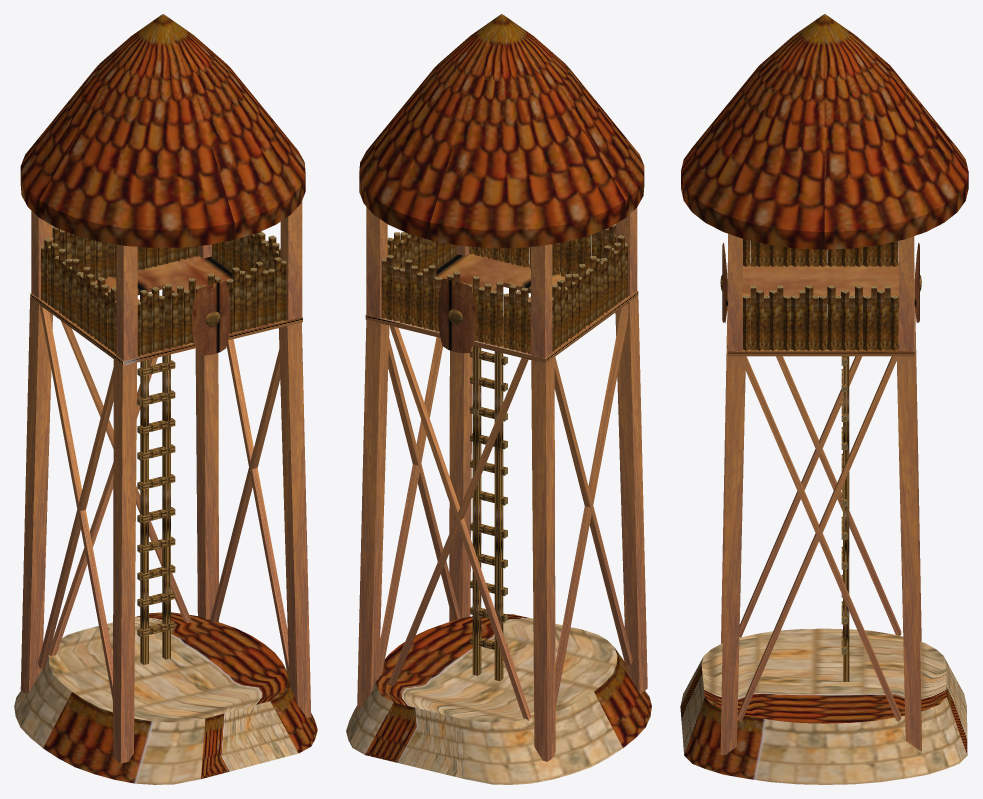
File: defense_tower.dae
3 views of the same model, side by side, from view 1: azimuth 30°, elevation 25°; view 2: azimuth 150°, elevation 25°; view 3: azimuth 270°, elevation 25° (orthographic).
Parts seen in each view (by area): view 1: defense_tower; view 2: defense_tower; view 3: defense_tower.
Part boxes in pixels (<box>): defense_tower: <box>14,14,317,784</box>; defense_tower: <box>346,14,651,784</box>; defense_tower: <box>680,14,968,784</box>.
Size of the model in its own units: 9.21 by 9.16 by 24.88.
